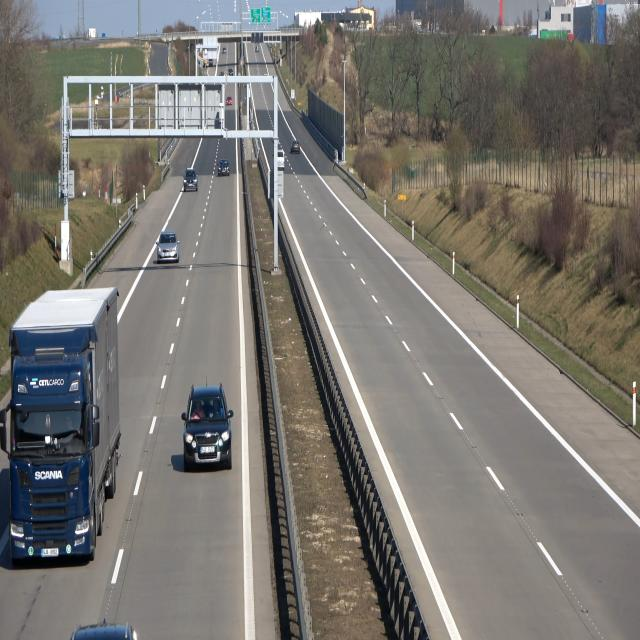Car: (0, 286, 121, 565), (181, 385, 236, 473), (155, 229, 181, 266), (182, 166, 198, 193), (273, 150, 286, 170), (217, 159, 230, 178), (290, 140, 301, 154)
